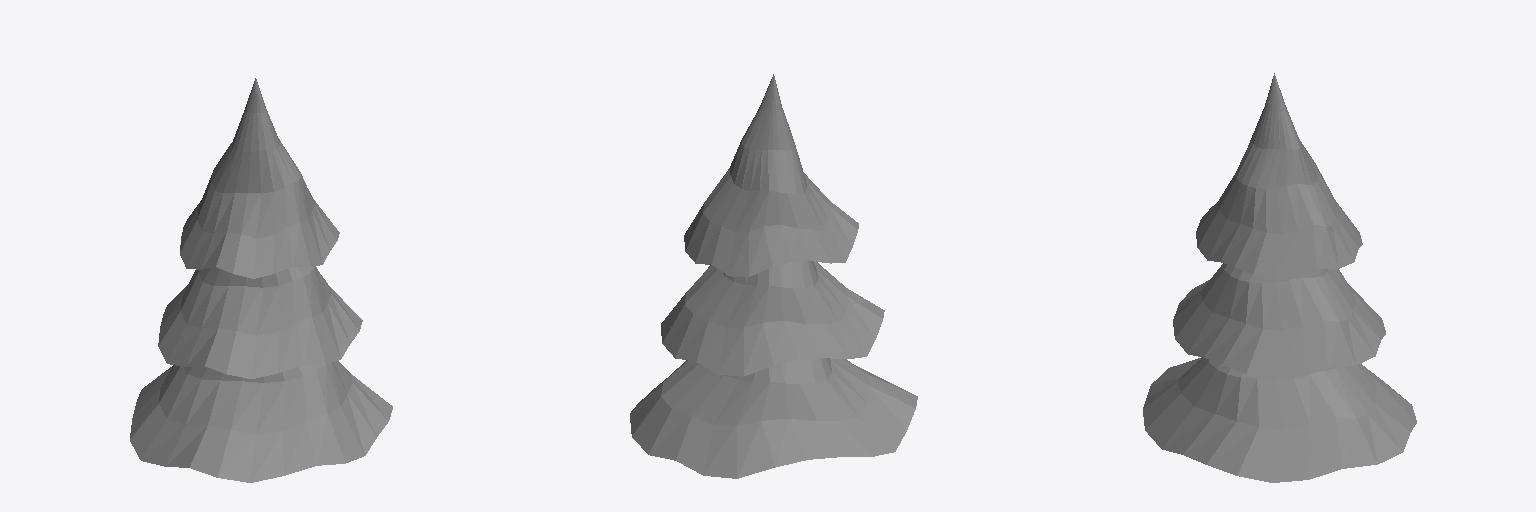
File: pino_3.obj
3 views of the same model, side by side, from view 1: azimuth 30°, elevation 25°; view 2: azimuth 150°, elevation 25°; view 3: azimuth 270°, elevation 25° (orthographic).
Parts seen in each view (by area): view 1: Pino_verde_Cone28; view 2: Pino_verde_Cone28; view 3: Pino_verde_Cone28.
Part boxes in pixels (x1,y1,x2,y2): Pino_verde_Cone28: (130, 78, 392, 482); Pino_verde_Cone28: (630, 74, 917, 478); Pino_verde_Cone28: (1143, 73, 1416, 482).
Bounding box in the file's own units: 7.83 × 11.2 × 7.68.